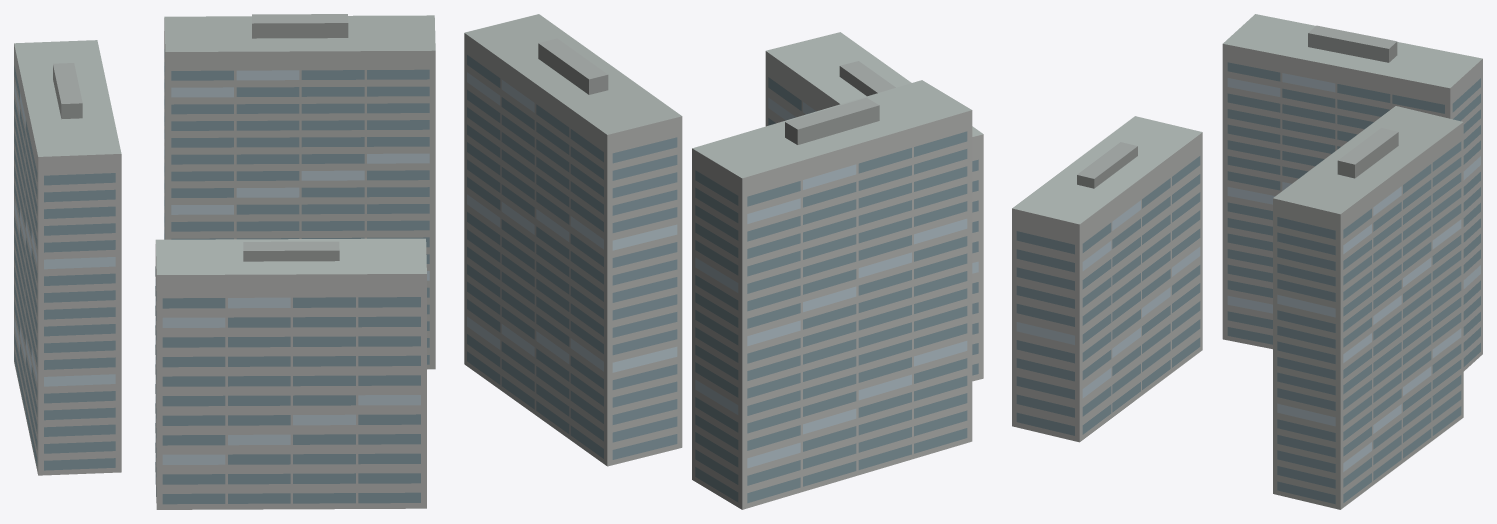
The model's file is apt-a15102902.glb.
3 renders of one model, left to right at view 1: azimuth 30°, elevation 25°; view 2: azimuth 150°, elevation 25°; view 3: azimuth 270°, elevation 25°, orthographic. The views are drawn at different scales.
Visible parts, largest first — view 1: apt-a15102902; view 2: apt-a15102902; view 3: apt-a15102902.
Part boxes in pixels (<box>): apt-a15102902: <box>14,14,435,509</box>; apt-a15102902: <box>464,14,983,509</box>; apt-a15102902: <box>1012,14,1482,509</box>.
Bounding box in the file's own units: 72.16 × 52 × 71.67.
